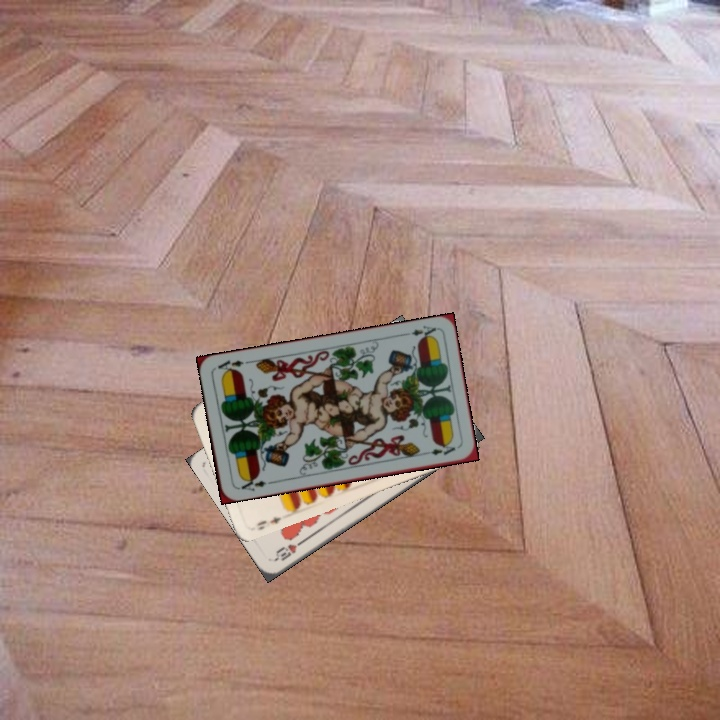E9: (253, 512, 284, 533)
EA: (399, 321, 439, 342), (234, 473, 269, 494)
H10: (271, 536, 307, 564)
